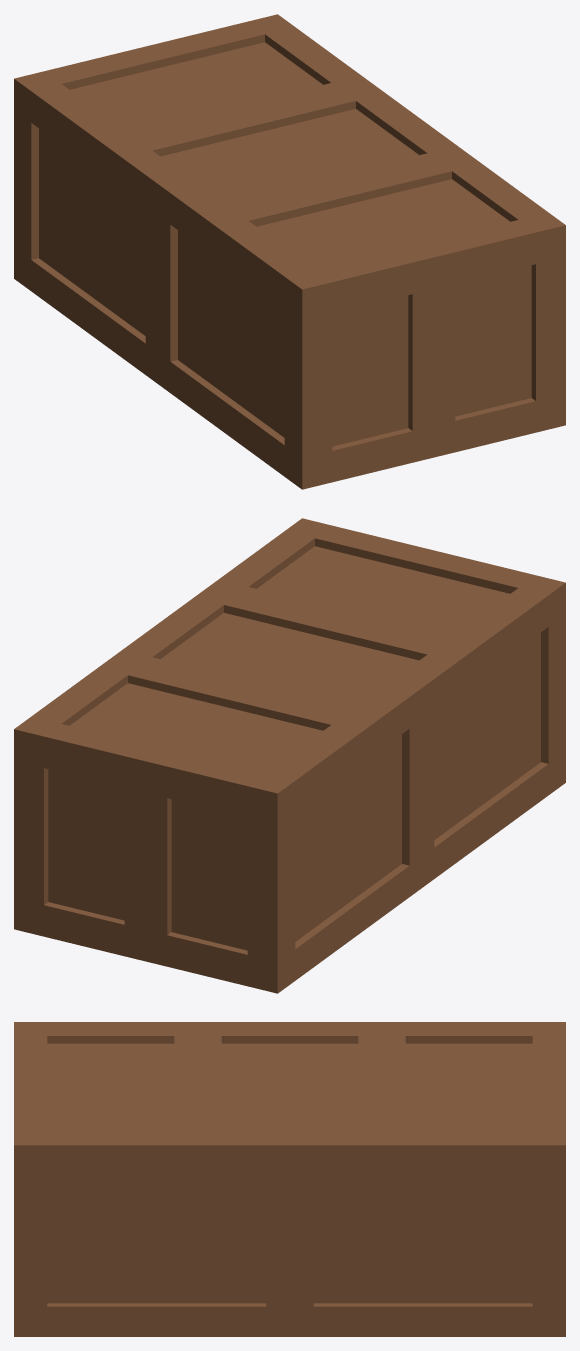
The model's file is crate_01.gltf.
3 views of the same model, one above another, from view 1: azimuth 30°, elevation 25°; view 2: azimuth 150°, elevation 25°; view 3: azimuth 270°, elevation 25° (orthographic). The views are drawn at different scales.
Visible parts, largest first — view 1: Crate.001; view 2: Crate.001; view 3: Crate.001.
Part boxes in pixels (<box>): Crate.001: <box>14,14,565,489</box>; Crate.001: <box>14,518,565,993</box>; Crate.001: <box>14,1022,565,1336</box>.
Size of the model in its own units: 2.6 by 1.89 by 4.93.
